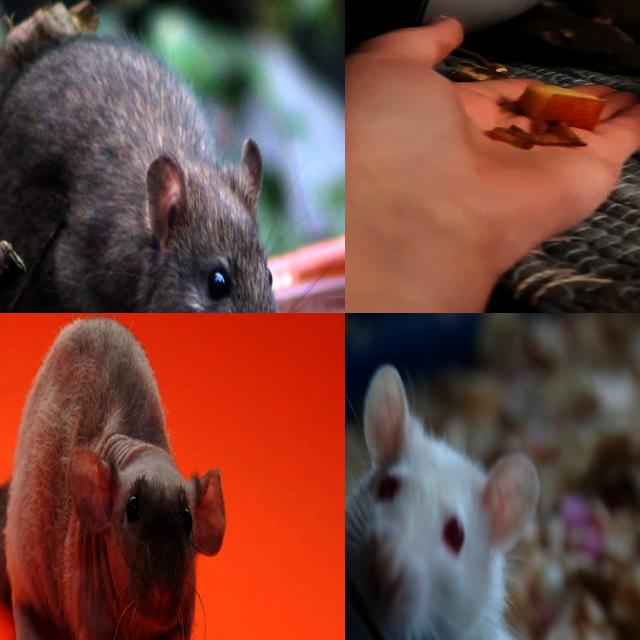rat: (0, 39, 287, 313), (0, 313, 230, 640), (345, 363, 538, 640), (477, 0, 640, 80), (550, 0, 640, 56)
